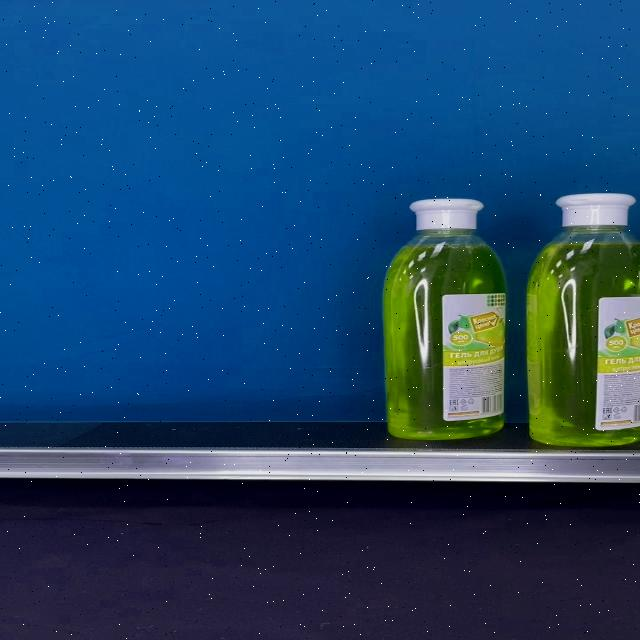Bottle: (382, 199, 507, 437), (525, 193, 640, 447)
Cap: (556, 194, 634, 227), (409, 200, 483, 230)
